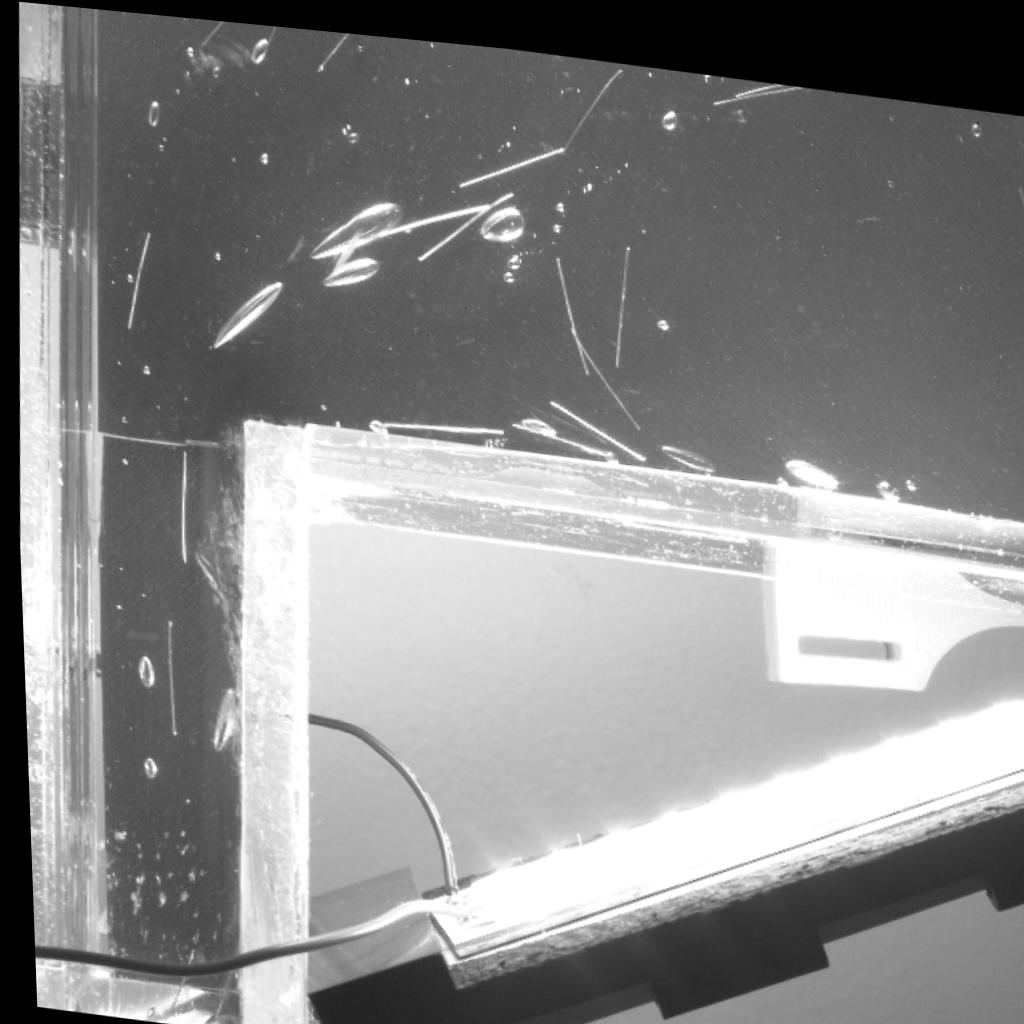Fiber: (320, 196, 492, 256), (418, 177, 513, 252), (542, 386, 647, 453), (562, 320, 634, 416), (560, 56, 624, 142), (454, 132, 565, 179), (552, 240, 588, 362), (507, 412, 610, 445), (120, 229, 150, 325), (610, 232, 632, 352), (157, 945, 189, 1013), (370, 413, 500, 429), (709, 69, 801, 91), (315, 26, 352, 67), (175, 449, 184, 559), (197, 16, 227, 48), (725, 67, 780, 82), (163, 617, 168, 730), (262, 20, 277, 53), (1014, 167, 1024, 195)
